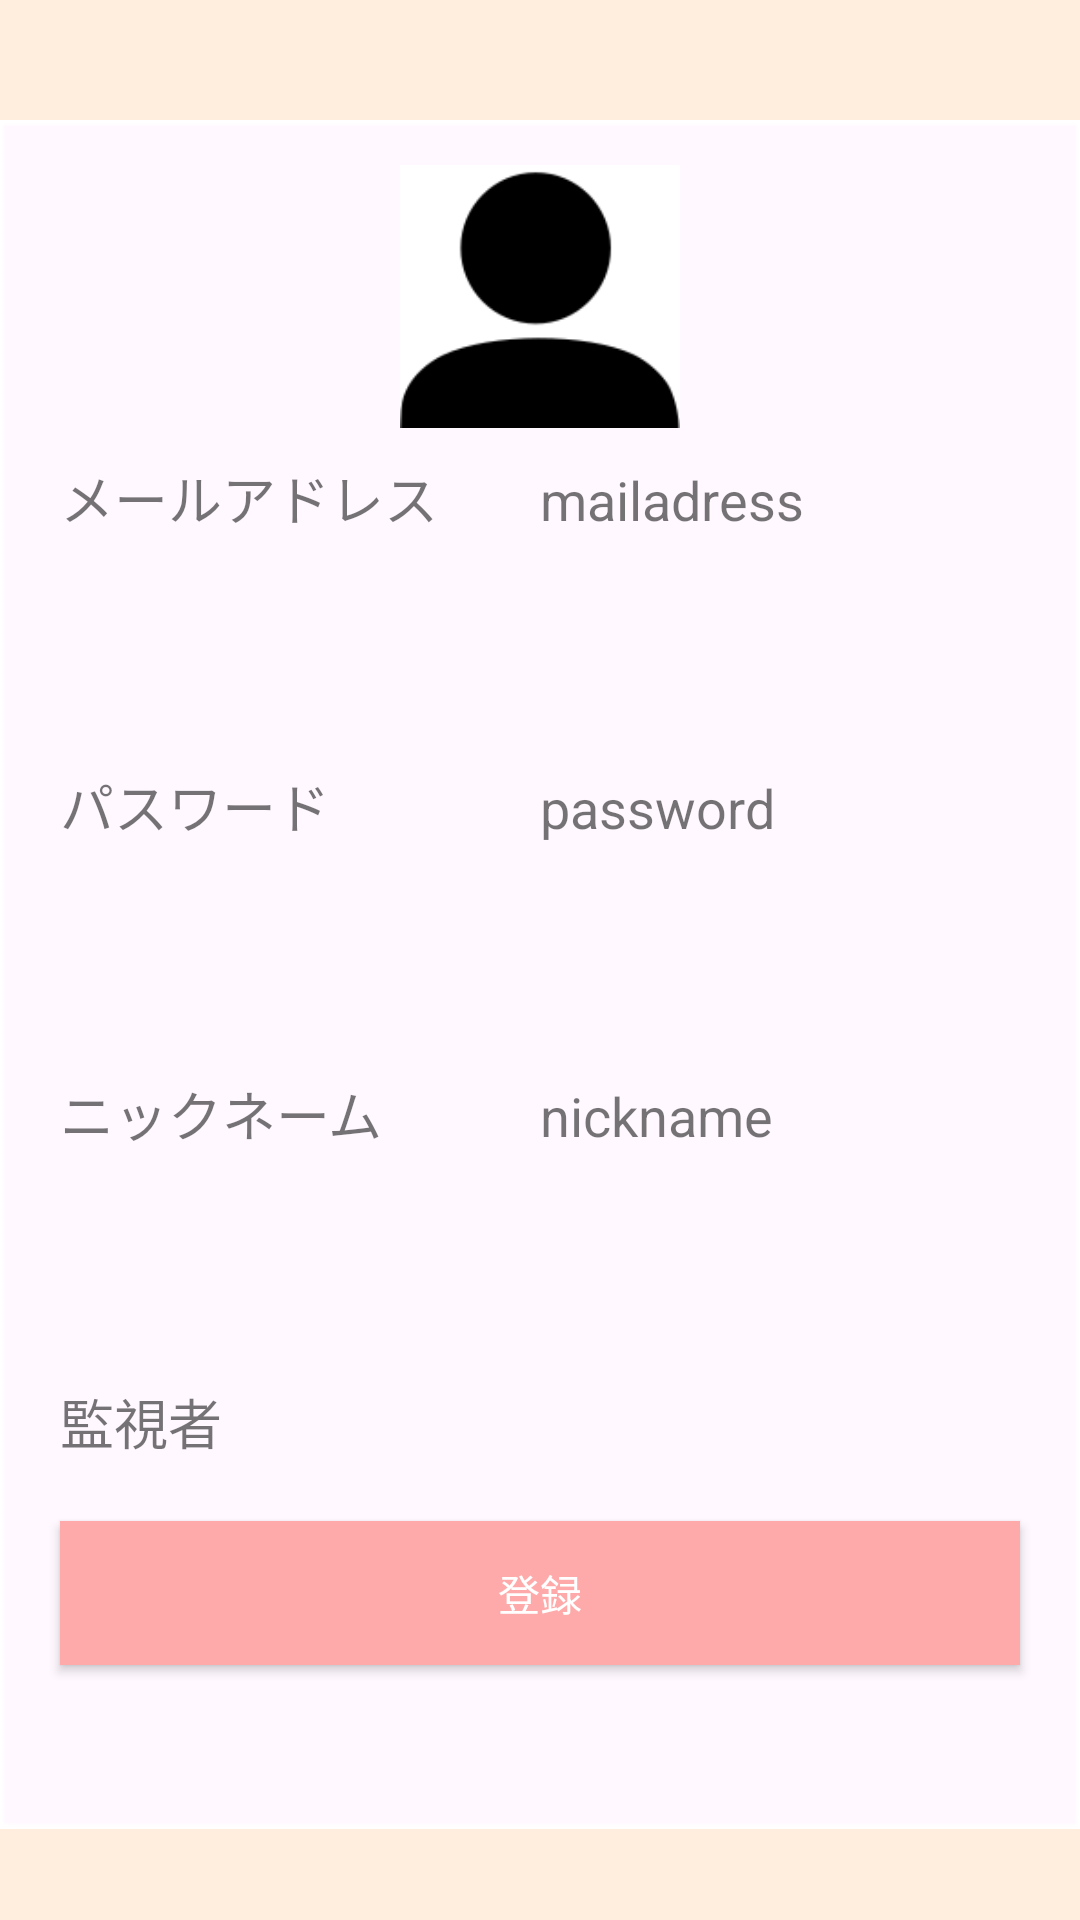

Icons on this 1080px x 1920px Android screen, each with the point to tap as [x,y]:
human: [540,300]
